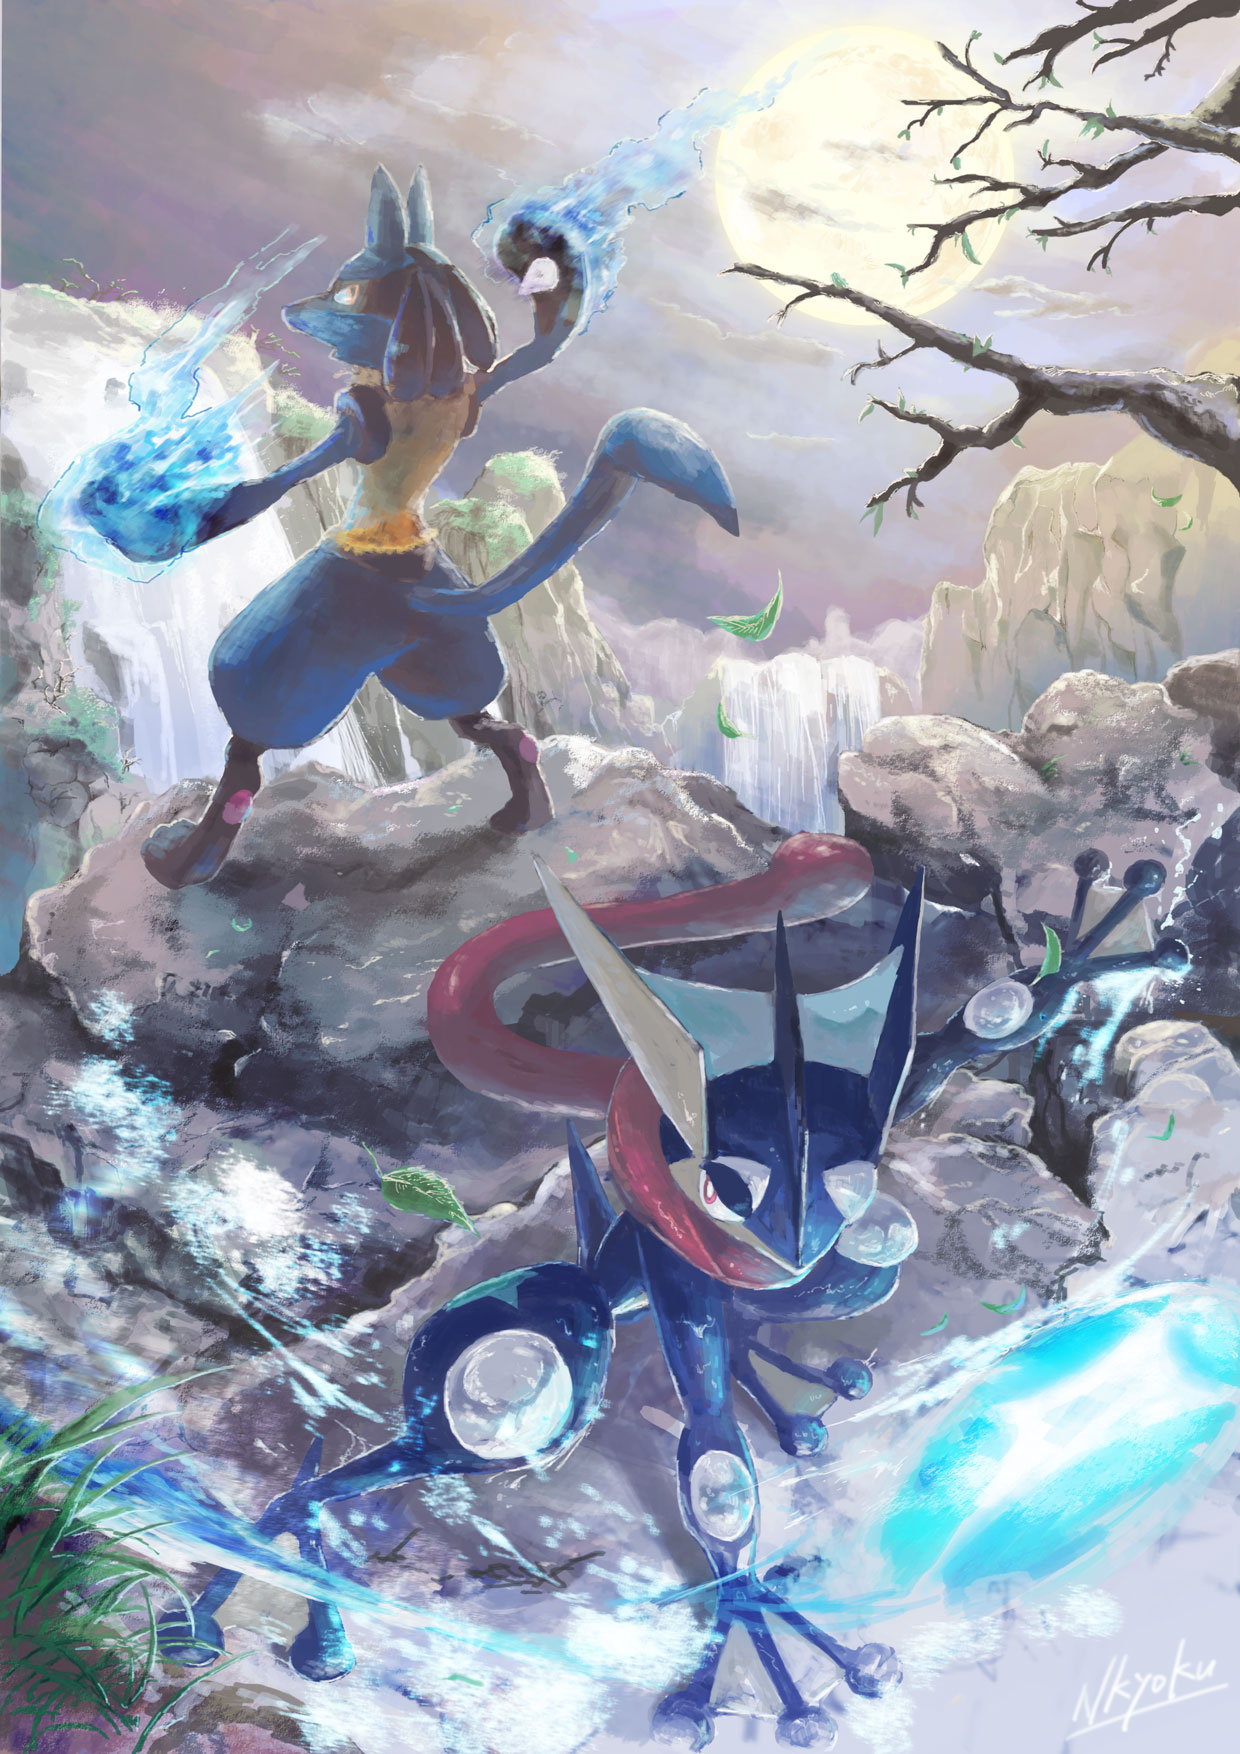greninja: (168, 835, 1178, 1751)
